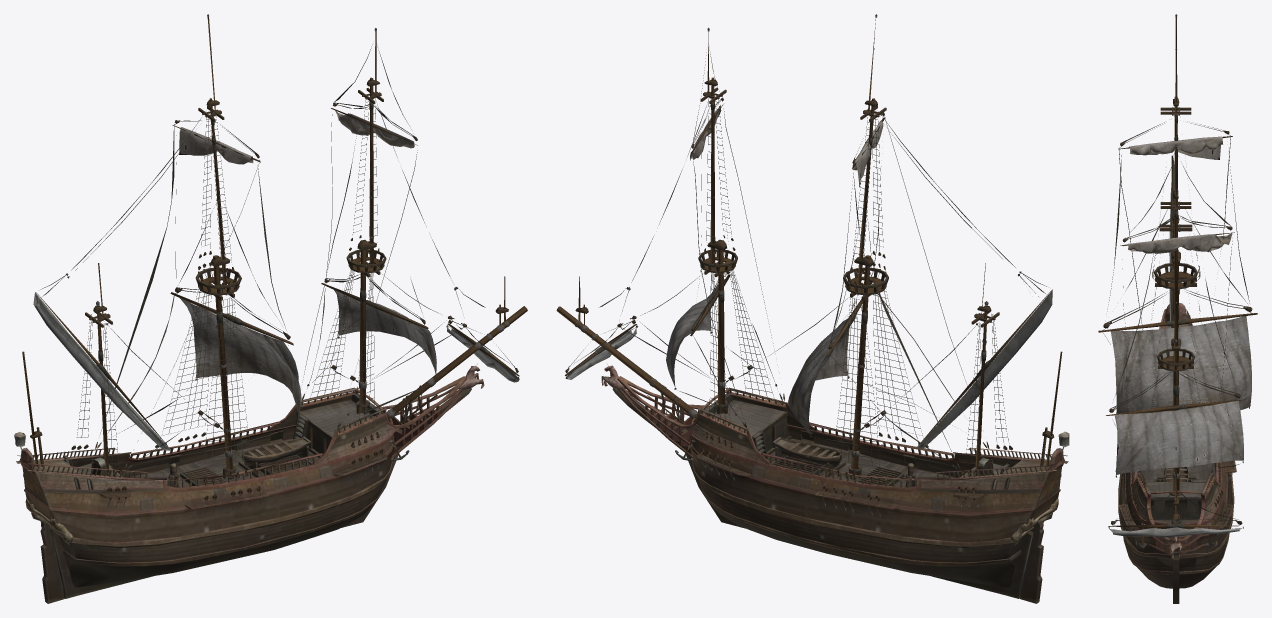
Rendered from dutch_ship_medium.glb.
3 renders of one model, left to right at view 1: azimuth 30°, elevation 25°; view 2: azimuth 150°, elevation 25°; view 3: azimuth 270°, elevation 25°, orthographic. The views are drawn at different scales.
Parts seen in each view (by area): view 1: dutch_ship_medium_hull, dutch_ship_medium_rigging, dutch_ship_medium_sails; view 2: dutch_ship_medium_hull, dutch_ship_medium_rigging, dutch_ship_medium_sails; view 3: dutch_ship_medium_sails, dutch_ship_medium_hull, dutch_ship_medium_rigging.
Part boxes in pixels (x1,y1,x2,y2): dutch_ship_medium_hull: (14, 363, 484, 603); dutch_ship_medium_rigging: (22, 14, 527, 516); dutch_ship_medium_sails: (179, 110, 436, 419); dutch_ship_medium_hull: (601, 364, 1069, 603); dutch_ship_medium_rigging: (556, 14, 1062, 517); dutch_ship_medium_sails: (666, 105, 883, 434); dutch_ship_medium_sails: (1110, 136, 1251, 474); dutch_ship_medium_hull: (1115, 289, 1236, 603); dutch_ship_medium_rigging: (1098, 14, 1257, 548).
Size of the model in its own units: 24.05 by 24.66 by 6.8.
Materials: 3 (3 with a texture image).
